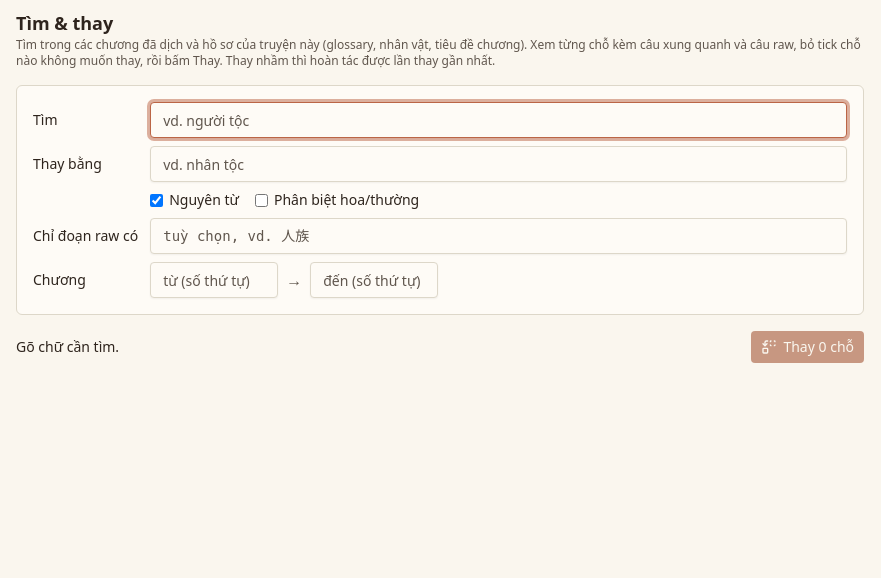
it: ReplacePage › chỉ khớp trong hồ sơ thì mở sẵn tab có chỗ khớp
Type "người tộc" into the field labelled "Tìm" at [499, 120], box 150,102 -> 847,138
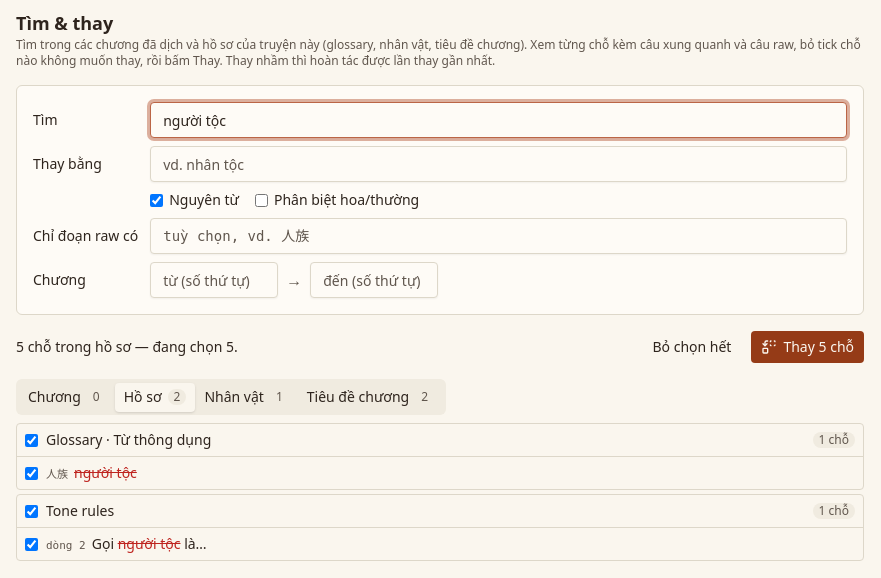
Result: the text "5 chỗ trong hồ sơ — đang chọn 5." is shown at 16,337 -> 238,356
Result: the tab "Chương 0" is disabled at 19,382 -> 115,412
